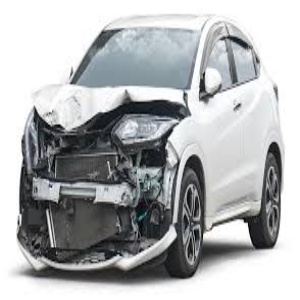bonnet: (41, 79, 176, 124)
bumper: (16, 163, 168, 264)
